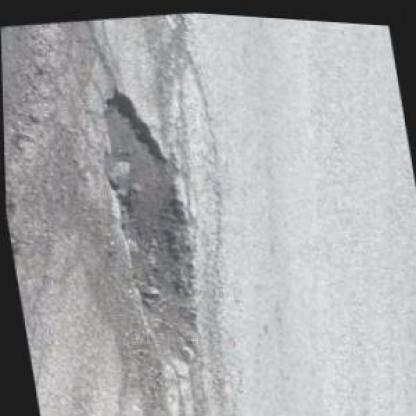pothole: (89, 78, 223, 370)
